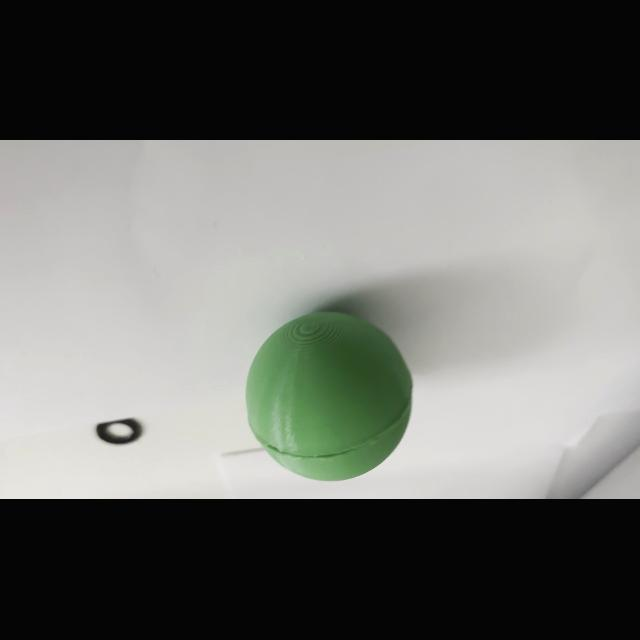objects: (235, 306, 420, 484)
